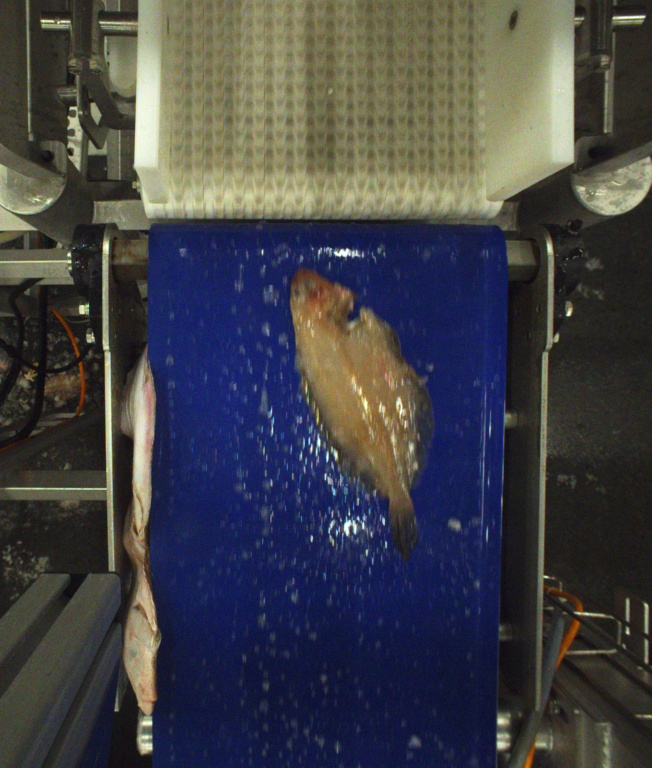WIT: (289, 267, 439, 553)
